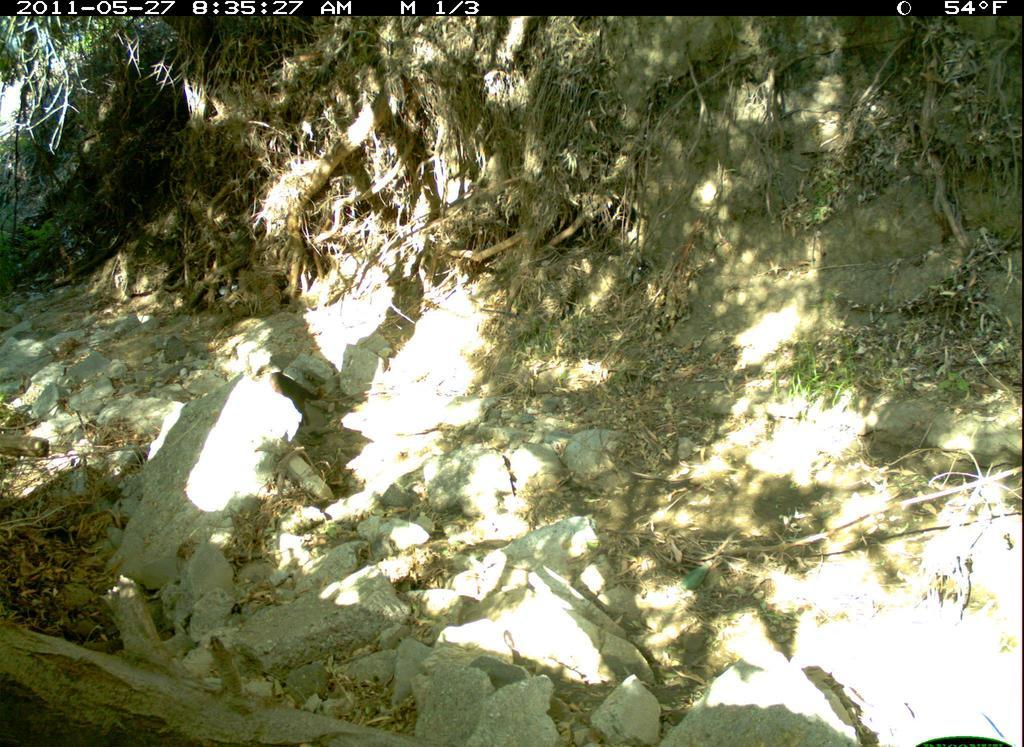cat: (246, 356, 335, 442)
